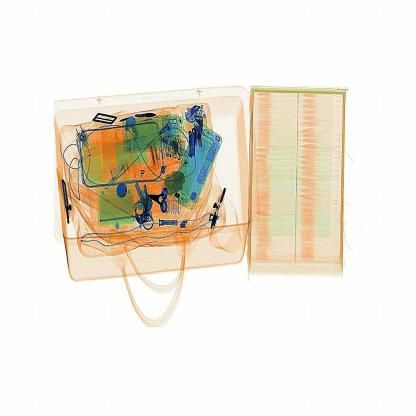gun: (142, 180, 182, 218)
